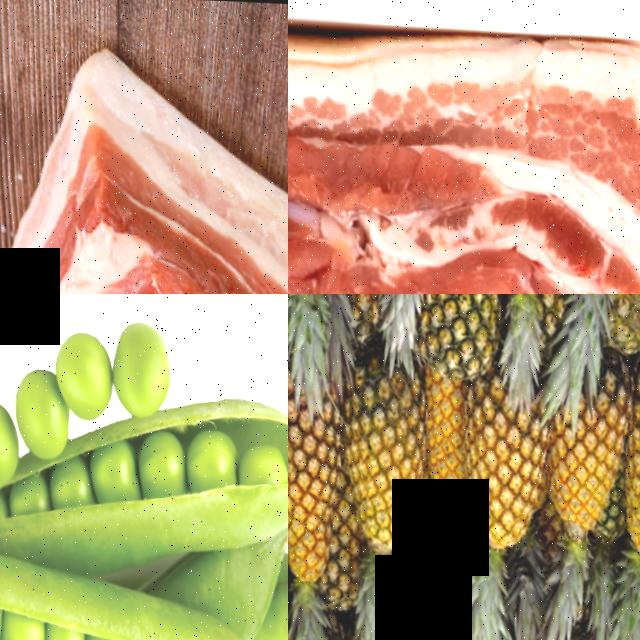peas: (0, 318, 279, 522), (0, 603, 232, 640)
pineapple: (339, 366, 423, 554), (457, 426, 538, 567), (288, 378, 342, 589), (533, 428, 619, 547), (415, 364, 465, 534), (614, 435, 640, 592)
pork belly: (288, 0, 640, 294), (0, 36, 288, 294)
